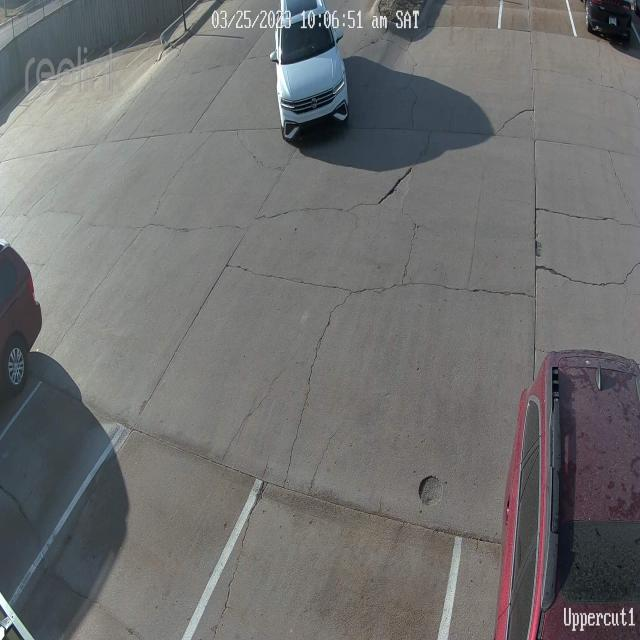Car: (274, 15, 350, 139)
Empty-slot: (0, 369, 266, 593), (181, 464, 466, 640), (402, 0, 502, 40), (495, 0, 576, 44)
Slot-Occupied: (497, 351, 640, 640), (0, 242, 44, 387), (584, 0, 638, 52)
